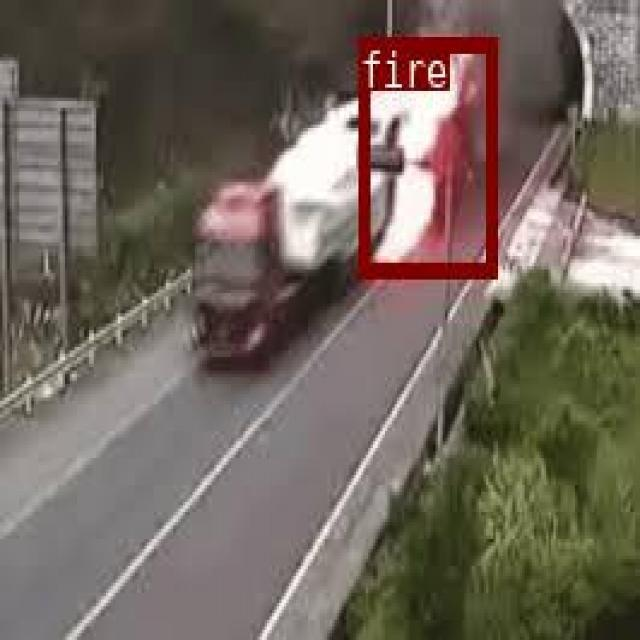fire: (358, 35, 494, 276)
